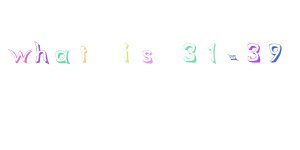-: (227, 53, 239, 62)
1: (206, 42, 217, 63)
3: (181, 42, 198, 63), (245, 42, 261, 63)
9: (268, 42, 282, 63)
a: (54, 48, 70, 63)
h: (33, 40, 50, 64)
i: (120, 41, 132, 63)
s: (141, 49, 154, 64)
t: (78, 45, 88, 63)
w: (8, 48, 32, 64)
